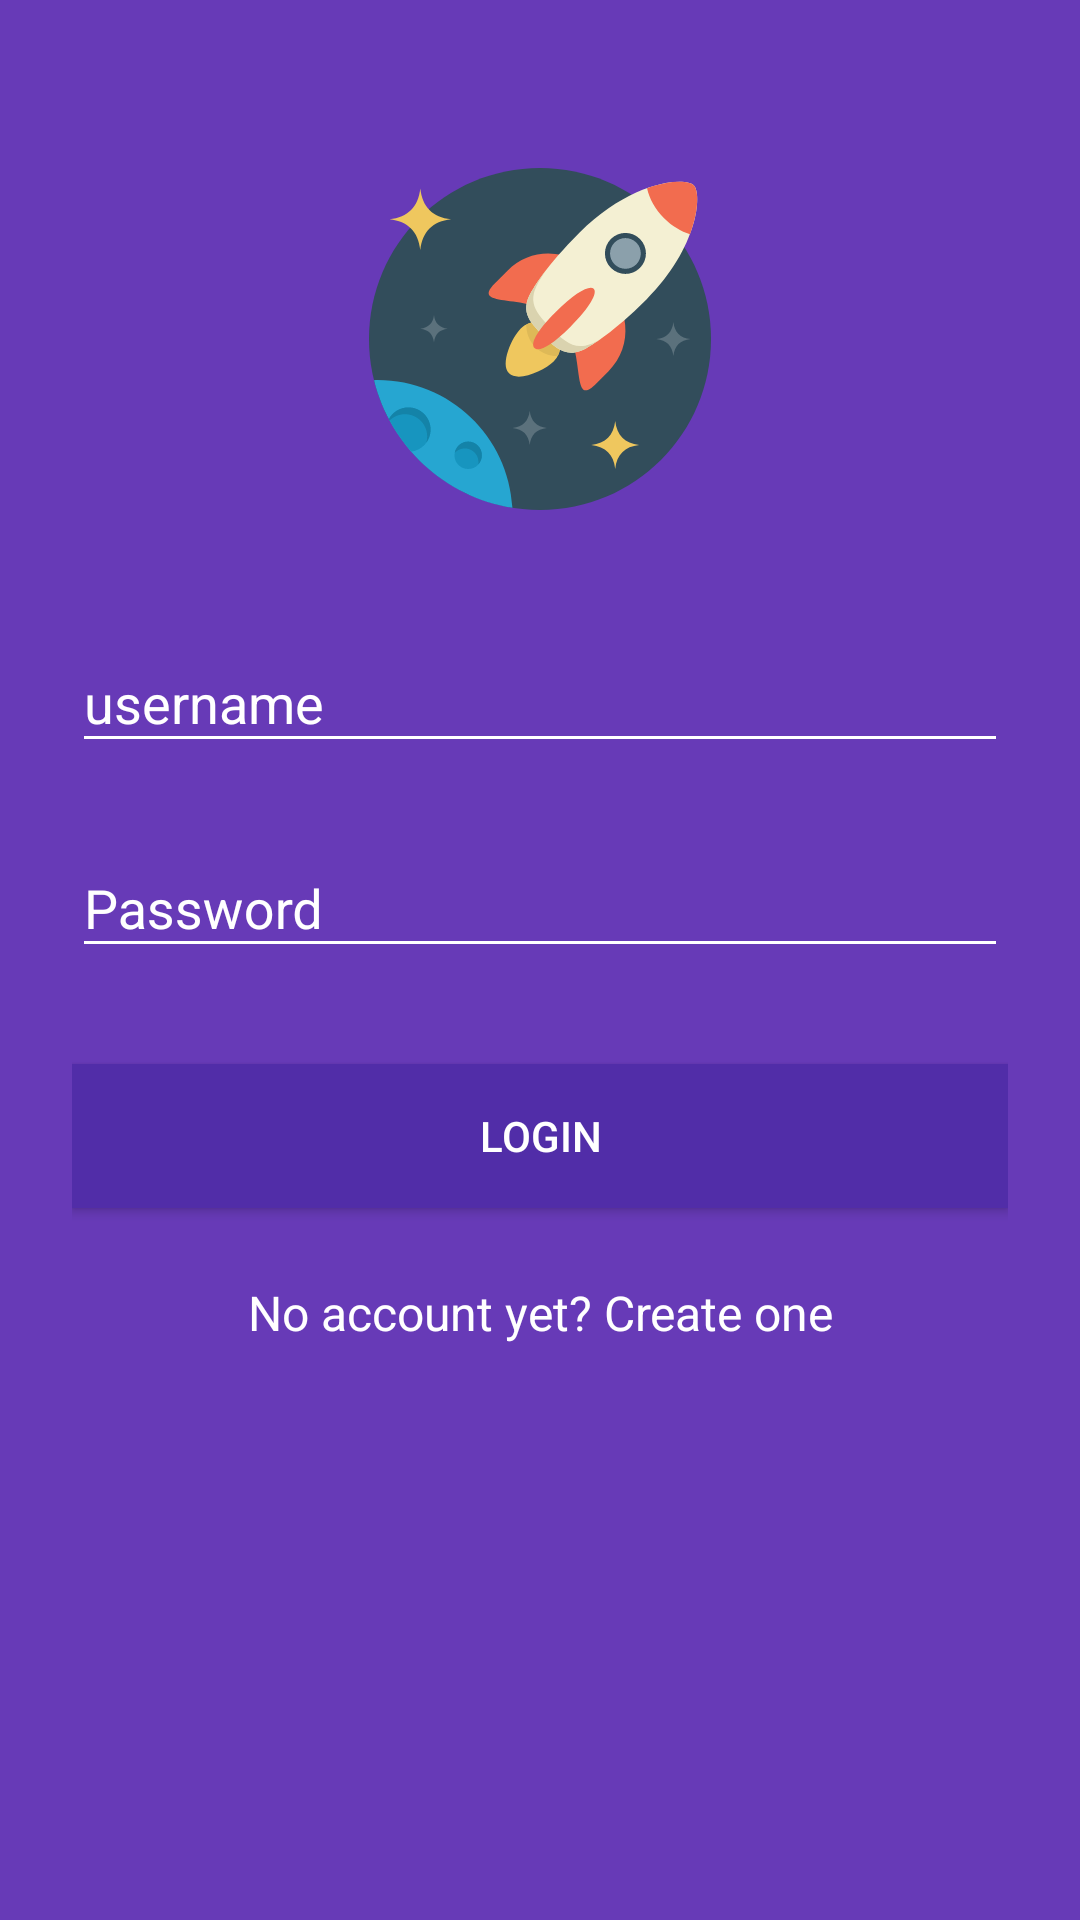

Icons on this 1080*1920 Android screen, each with the point to tap as (x=x, y=y):
rocket: (x=540, y=339)
